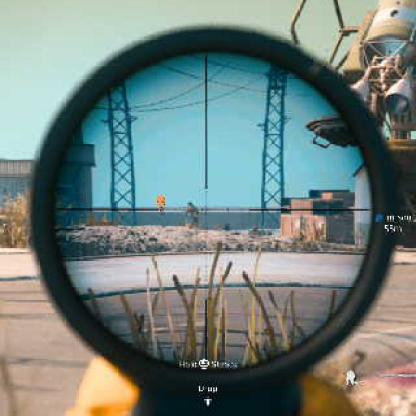enemy: (183, 200, 203, 229)
